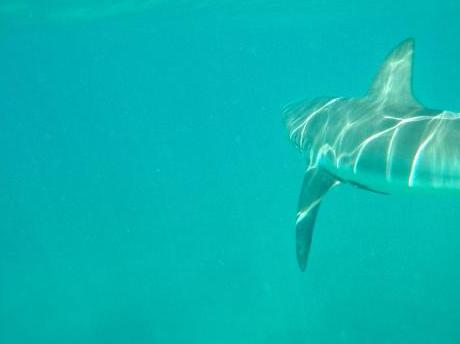Shark -Selachimorpha-: (277, 34, 460, 271)
